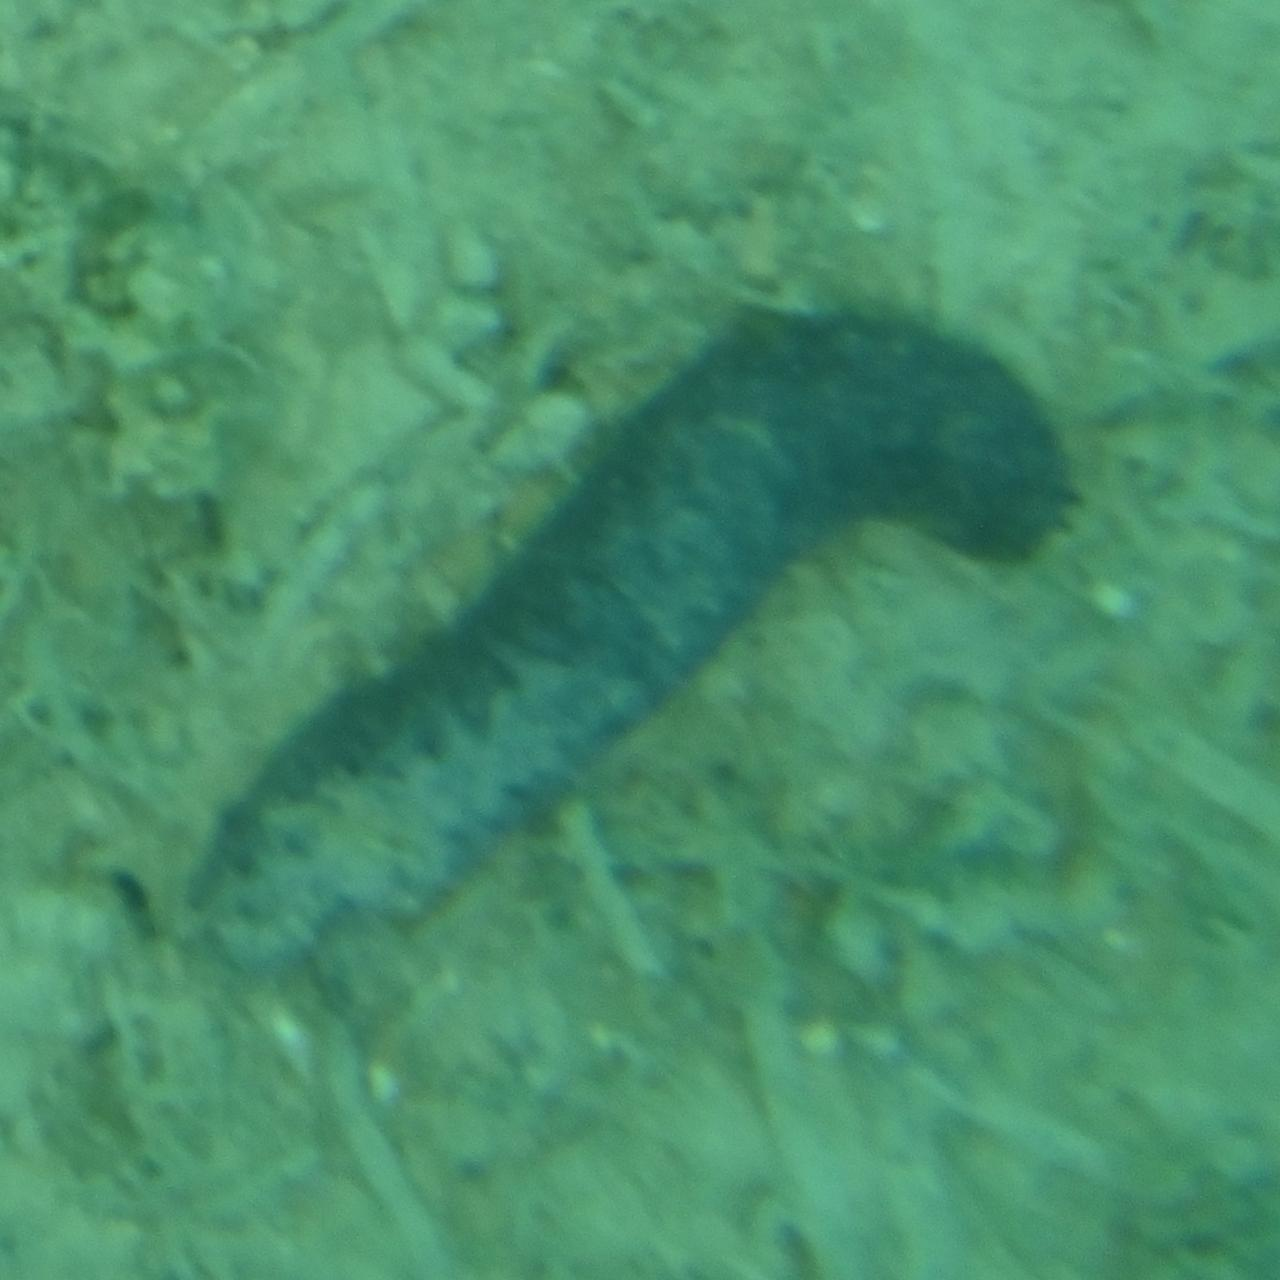Holothuria tubulosa: (194, 277, 1086, 1003)
